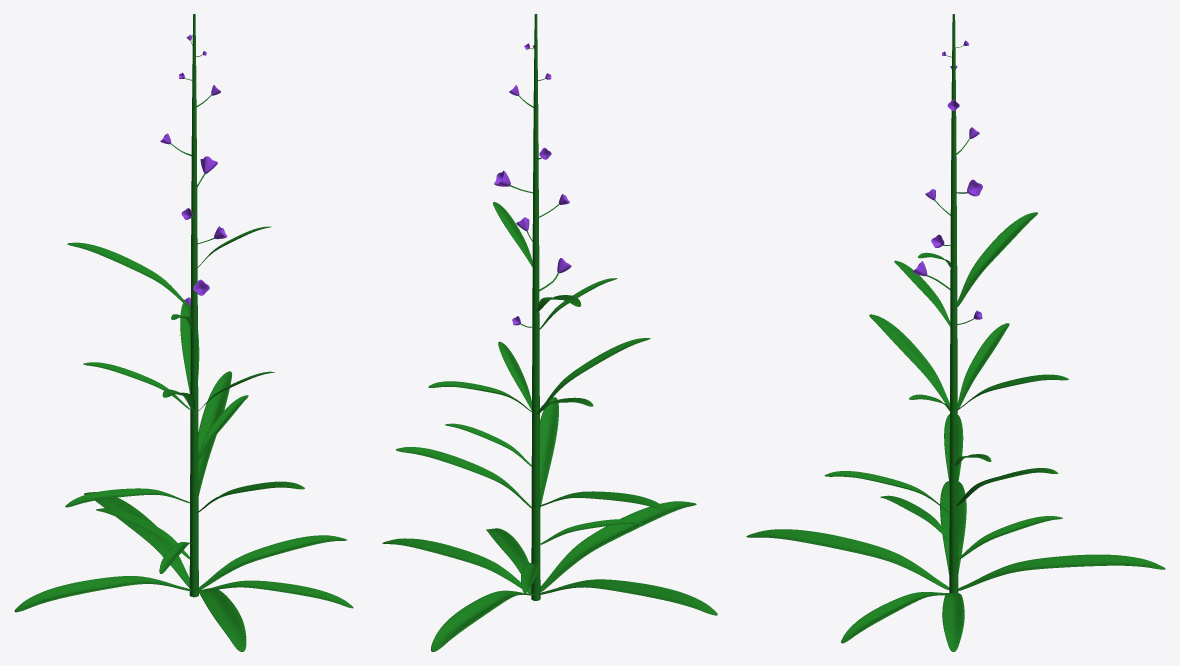
File: Viper´s Bugloss.fbx
3 views of the same model, side by side, from view 1: azimuth 30°, elevation 25°; view 2: azimuth 150°, elevation 25°; view 3: azimuth 270°, elevation 25° (orthographic).
Parts seen in each view (by area): view 1: Cube.017; view 2: Cube.017; view 3: Cube.017.
Part boxes in pixels (x1,y1,x2,y2): Cube.017: (14, 14, 353, 651); Cube.017: (382, 14, 717, 651); Cube.017: (746, 14, 1165, 651).
Size of the model in its own units: 11.98 by 20 by 13.06.
